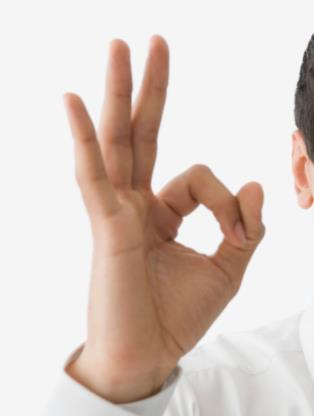left: (56, 30, 268, 365)
